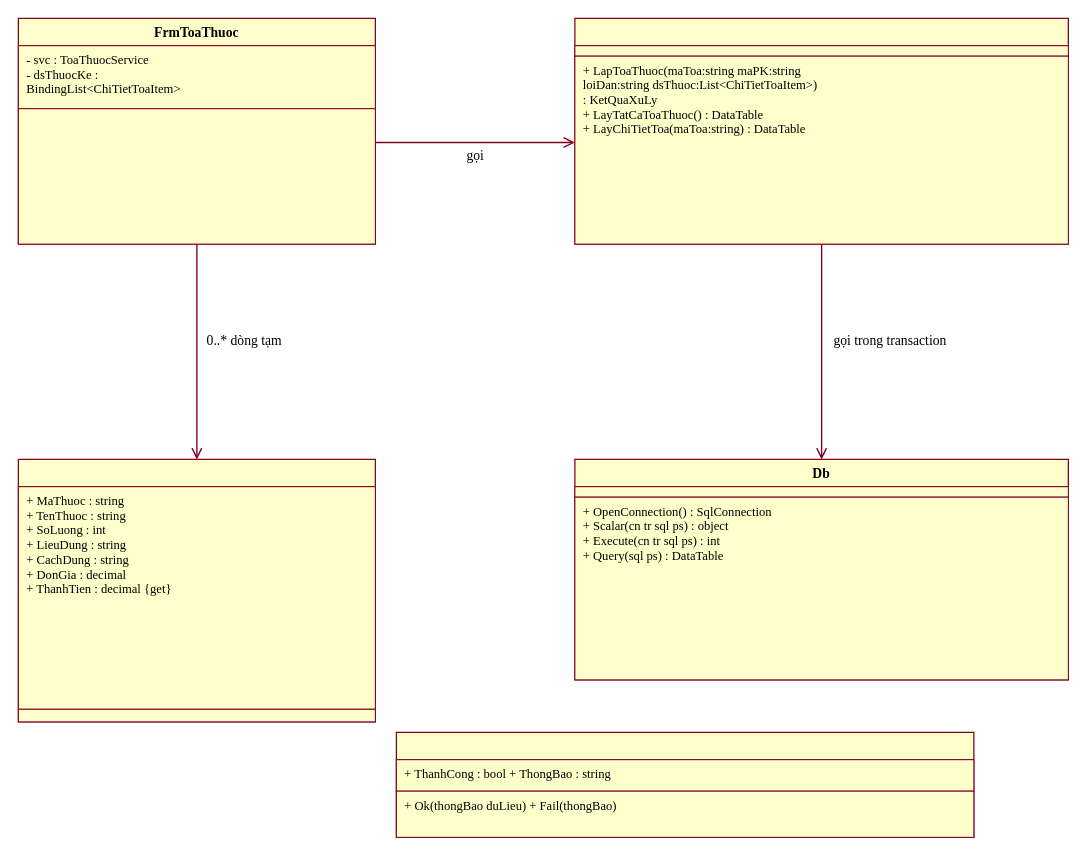
This 1088x859 diagram has some shape labels left out. Each missing label, with the box of its shape:
+ btnThemThuoc_Click(sender e) + btnLapToa_Click(sender e) + Tai(): (17, 108, 375, 244)
ChiTietToaItem: (17, 458, 375, 722)
KetQuaXuLy: (395, 731, 974, 837)
ToaThuocService: (574, 17, 1068, 244)
